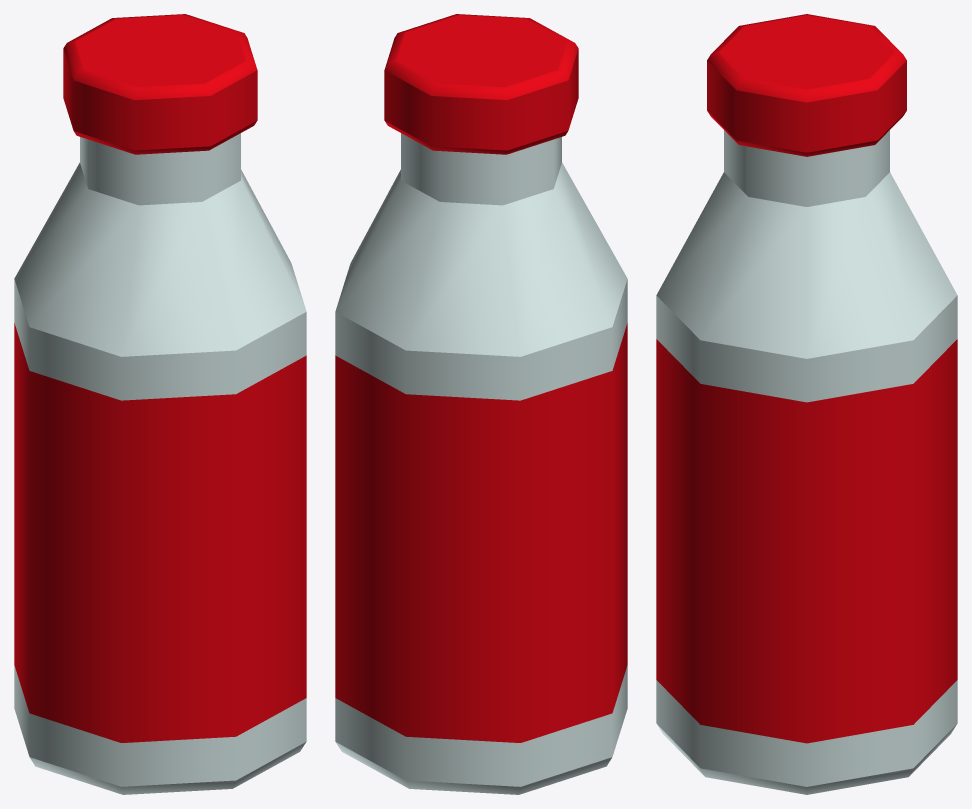
The model's file is Fridgerer_Drinks.glb.
3 views of the same model, side by side, from view 1: azimuth 30°, elevation 25°; view 2: azimuth 150°, elevation 25°; view 3: azimuth 270°, elevation 25° (orthographic).
Parts seen in each view (by area): view 1: Drinks; view 2: Drinks; view 3: Drinks.
Part boxes in pixels (<box>): Drinks: <box>14,14,306,794</box>; Drinks: <box>335,14,627,794</box>; Drinks: <box>656,14,957,794</box>.
Size of the model in its own units: 0.0921 by 0.2316 by 0.0921.
2 materials, 1 textured.
